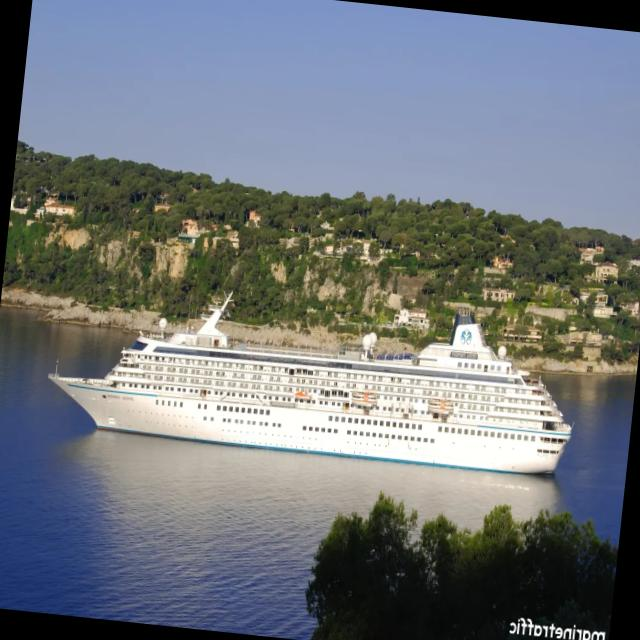Cruise: (49, 293, 571, 473)
